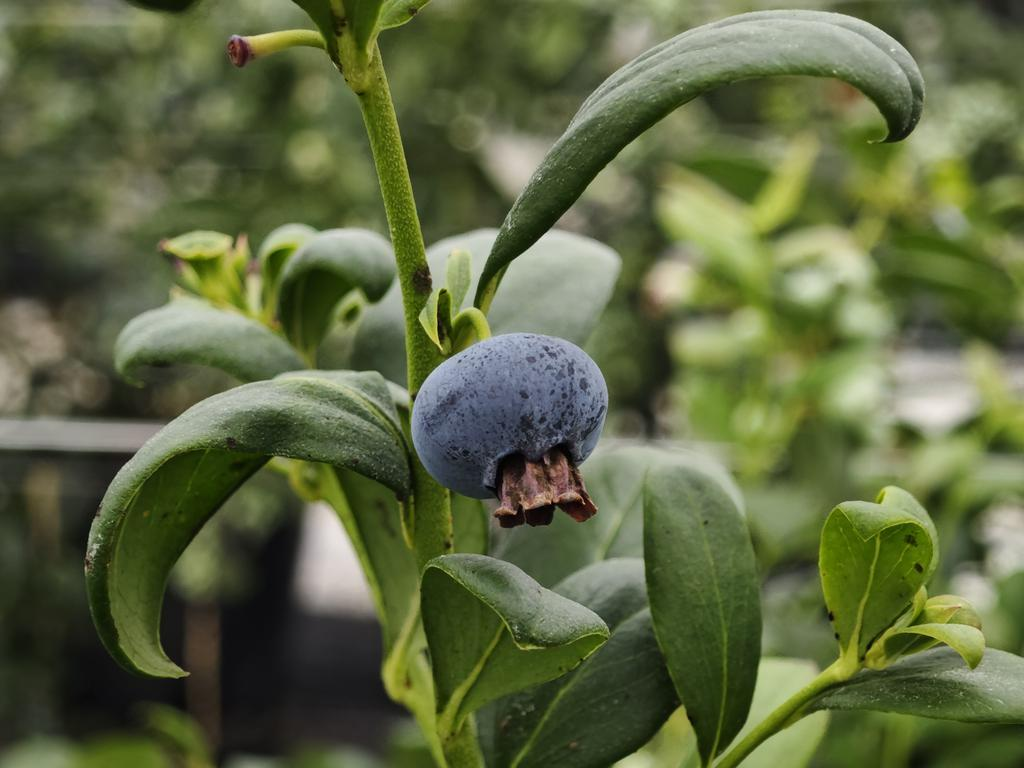RipeBlueBerry: (404, 325, 613, 519)
